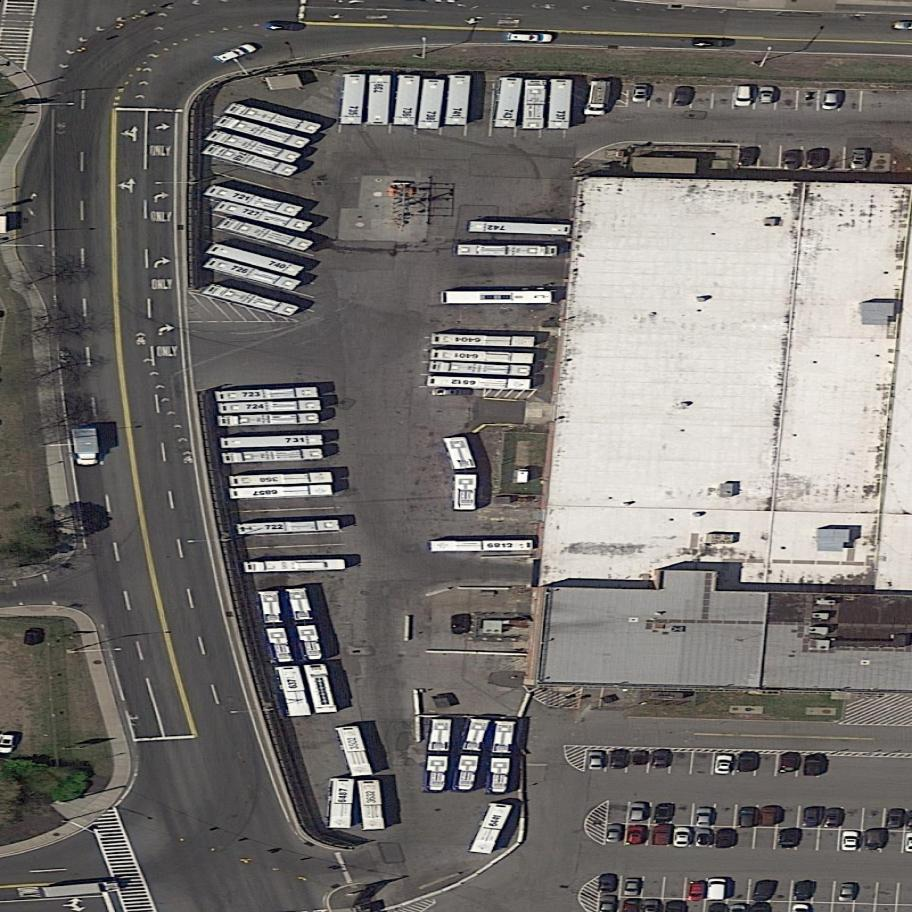large-vehicle: (447, 712, 495, 798), (216, 215, 318, 255), (202, 254, 304, 294), (205, 127, 305, 167), (202, 140, 301, 180), (200, 281, 303, 319), (214, 113, 314, 152), (204, 241, 306, 279), (252, 585, 298, 669), (213, 198, 317, 235), (202, 182, 305, 219), (223, 100, 324, 136), (284, 583, 326, 665), (467, 795, 516, 863), (443, 433, 479, 513), (484, 718, 519, 798), (420, 716, 455, 795), (335, 721, 376, 782), (274, 661, 313, 721), (303, 660, 339, 718), (469, 219, 574, 238), (236, 518, 343, 536), (427, 373, 533, 391), (492, 74, 525, 131), (219, 433, 325, 450), (326, 775, 358, 830), (429, 360, 532, 377), (443, 72, 474, 128), (433, 348, 535, 365), (429, 332, 537, 348), (441, 290, 556, 305), (417, 76, 447, 133), (214, 386, 320, 402), (216, 399, 322, 415), (229, 471, 335, 487), (229, 484, 333, 500), (217, 411, 320, 427), (222, 448, 324, 464), (393, 72, 422, 128), (240, 558, 348, 573), (355, 778, 384, 832), (364, 73, 393, 127), (339, 72, 367, 126), (520, 78, 548, 130), (547, 78, 573, 130), (458, 244, 559, 257), (429, 540, 536, 552)
small-vehicle: (211, 39, 260, 67), (72, 426, 101, 467), (750, 872, 781, 908), (505, 31, 557, 45), (685, 877, 708, 905), (775, 751, 804, 773), (731, 84, 757, 108), (758, 805, 784, 829), (823, 804, 845, 831), (805, 146, 829, 170), (706, 877, 729, 902), (837, 880, 860, 905), (651, 822, 674, 847), (673, 83, 695, 108), (736, 807, 761, 829), (693, 825, 715, 850), (713, 754, 737, 776), (805, 754, 827, 778), (671, 826, 695, 848), (648, 749, 673, 770), (792, 879, 814, 902), (714, 827, 736, 850), (693, 36, 735, 48), (739, 144, 759, 169), (849, 147, 870, 170), (803, 805, 823, 829), (885, 806, 905, 830), (821, 89, 841, 113), (265, 21, 305, 33), (780, 826, 800, 850), (783, 148, 804, 170), (694, 807, 716, 828), (627, 824, 648, 846), (652, 804, 675, 824), (598, 874, 621, 894), (609, 749, 630, 770), (630, 81, 651, 102), (605, 823, 627, 843), (628, 802, 650, 822), (756, 85, 779, 104), (623, 876, 642, 899), (864, 829, 884, 850), (737, 754, 759, 773), (843, 829, 861, 852), (588, 751, 606, 771), (632, 749, 651, 766)
